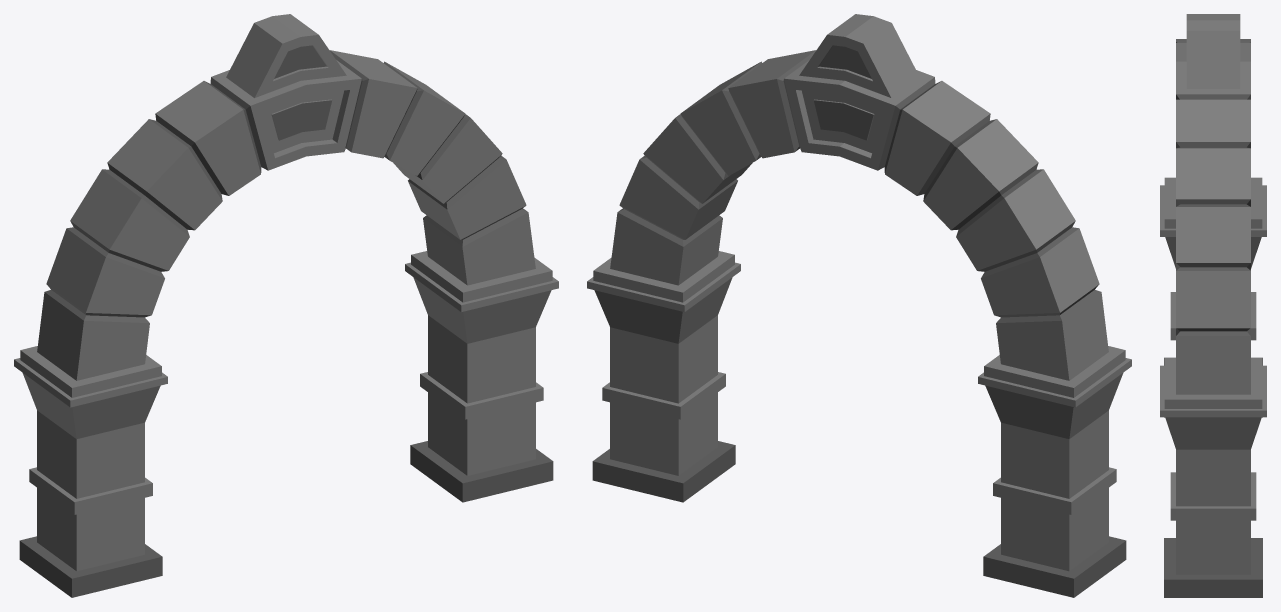
Rendered from Arch_07.fbx.
The picture shows the model from 3 angles, left to right: view 1: azimuth 30°, elevation 25°; view 2: azimuth 150°, elevation 25°; view 3: azimuth 270°, elevation 25°; orthographic projection. The views are drawn at different scales.
Parts seen in each view (by area): view 1: Arch_07; view 2: Arch_07; view 3: Arch_07.
Boxes of the visible parts, x1,y1,x2,y2 form: Arch_07: [14, 14, 558, 597]; Arch_07: [587, 14, 1131, 597]; Arch_07: [1160, 14, 1266, 597].
Size of the model in its own units: 257 by 248 by 51.46.
